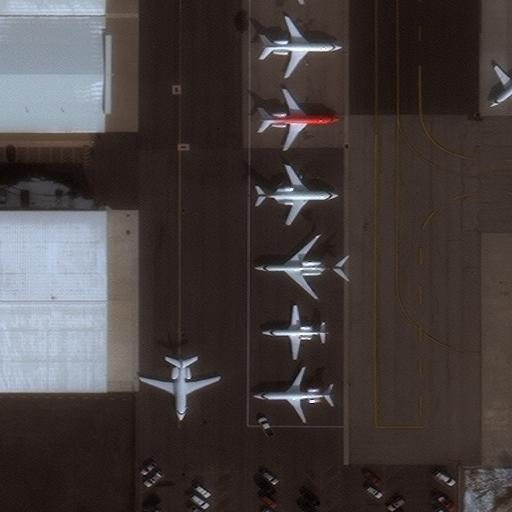Medium Civil Transport: (253, 234, 343, 300), (261, 16, 343, 78), (140, 358, 220, 421), (256, 165, 339, 225), (261, 88, 339, 150), (251, 367, 333, 423), (261, 305, 328, 359), (488, 68, 511, 106)
